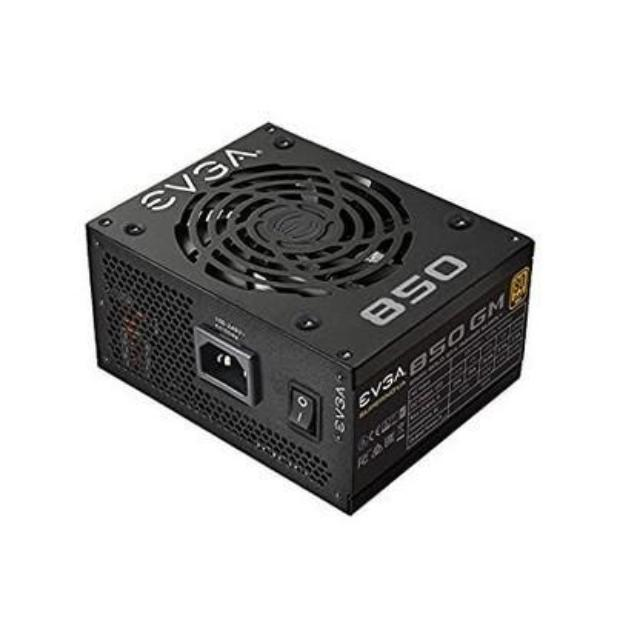PSU: (61, 120, 544, 514)
